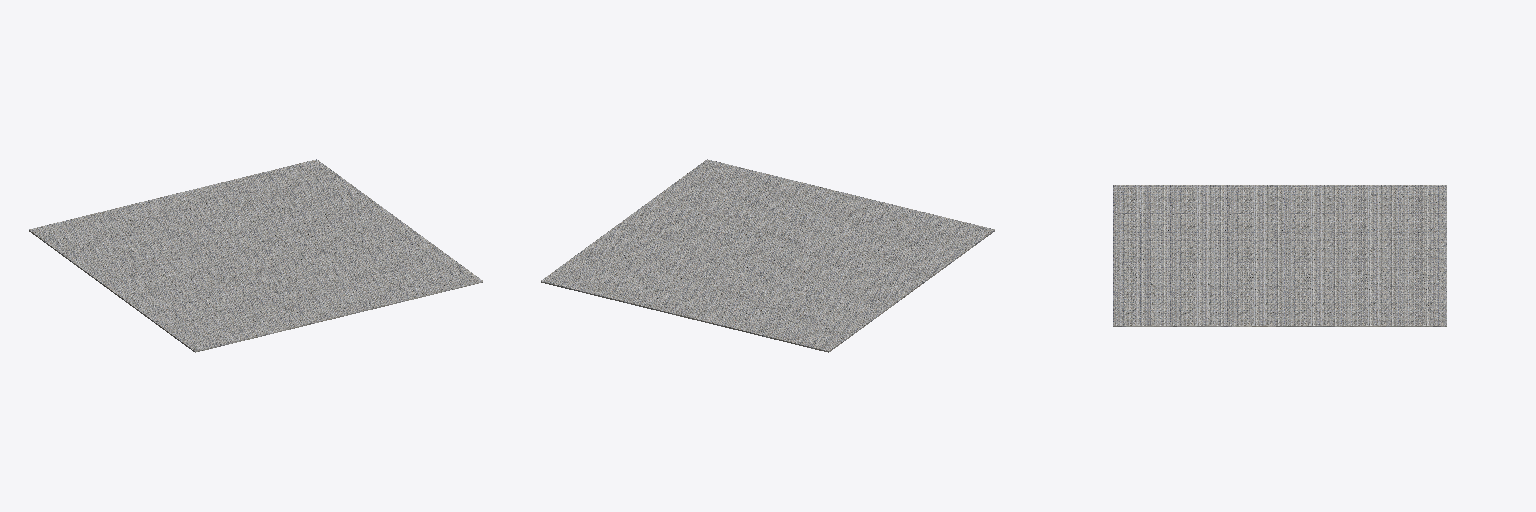
The picture shows the model from 3 angles: view 1: azimuth 30°, elevation 25°; view 2: azimuth 150°, elevation 25°; view 3: azimuth 270°, elevation 25°; orthographic projection.
Parts seen in each view (by area): view 1: Cube_mat; view 2: Cube_mat; view 3: Cube_mat.
Part boxes in pixels (left/top/right/bottom): Cube_mat: left=29, top=159, right=482, bottom=352; Cube_mat: left=541, top=159, right=994, bottom=352; Cube_mat: left=1113, top=185, right=1446, bottom=326.
Bounding box in the file's own units: 207 × 0.9168 × 207.
Materials: 1 (1 with a texture image).